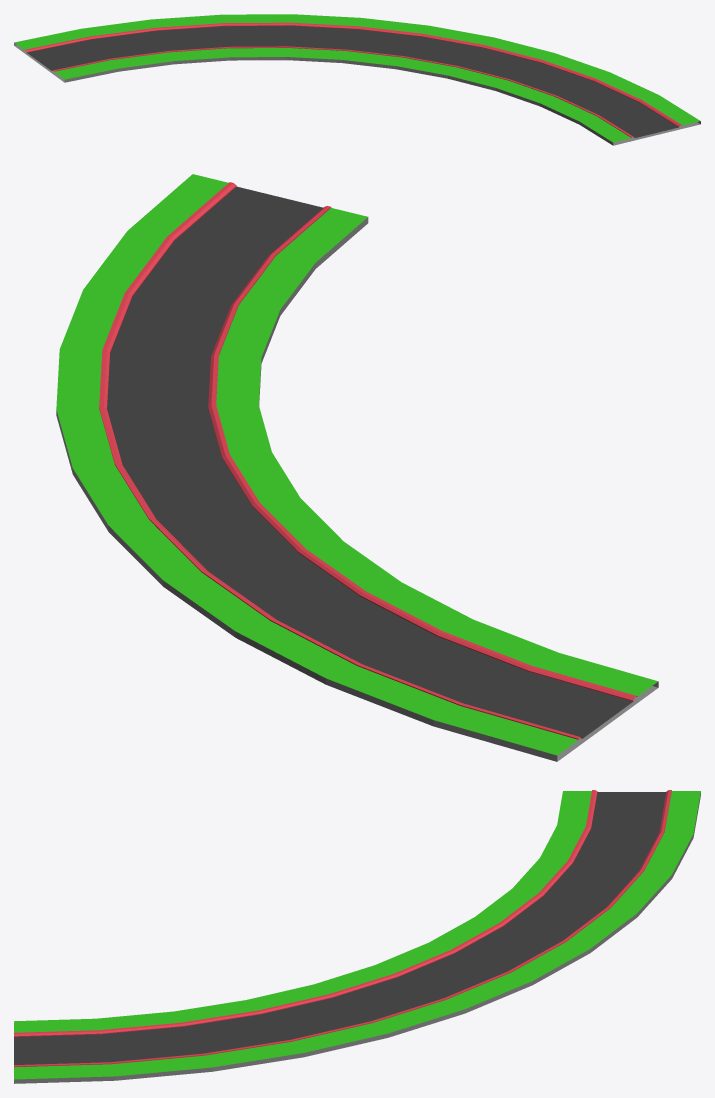
The model's file is bigCurve_left.fbx.
The picture shows the model from 3 angles, top to bottom: view 1: azimuth 30°, elevation 25°; view 2: azimuth 150°, elevation 25°; view 3: azimuth 270°, elevation 25°; orthographic projection. The views are drawn at different scales.
Visible parts, largest first — view 1: bigCurve_left; view 2: bigCurve_left; view 3: bigCurve_left.
Boxes of the visible parts, x1,y1,x2,y2 form: bigCurve_left: (14,14,700,145); bigCurve_left: (56,174,658,761); bigCurve_left: (14,790,700,1083).
Bounding box in the file's own units: 9901 × 80.78 × 9958.
